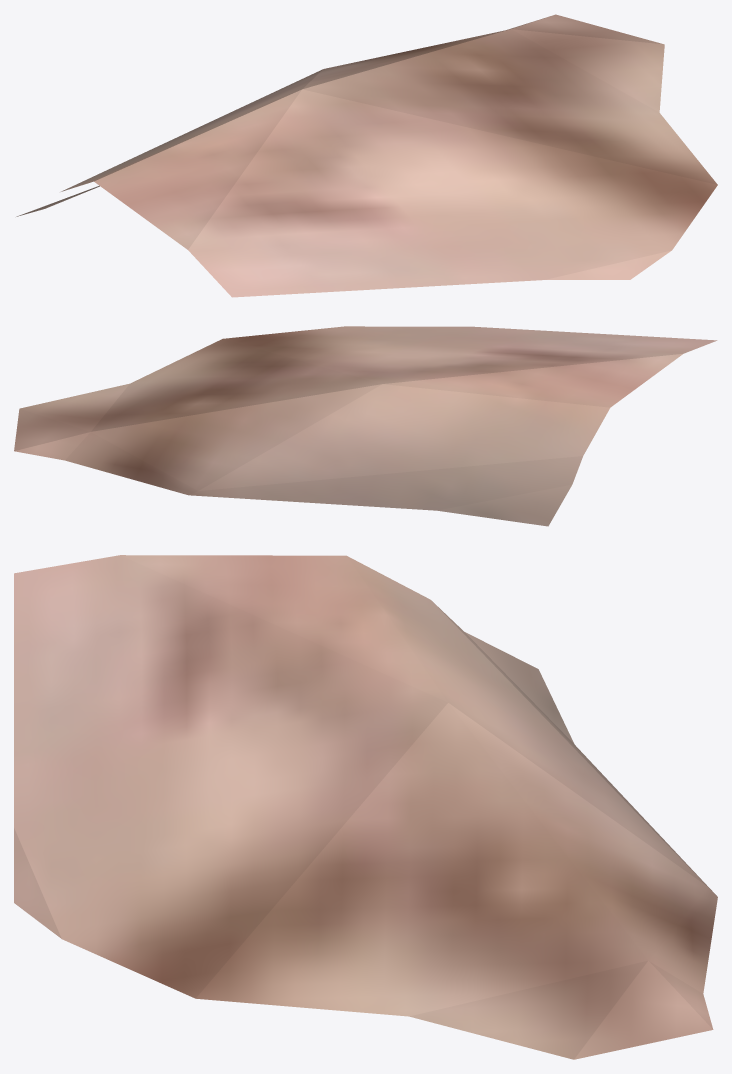
The picture shows the model from 3 angles, top to bottom: view 1: azimuth 30°, elevation 25°; view 2: azimuth 150°, elevation 25°; view 3: azimuth 270°, elevation 25°; orthographic projection. The views are drawn at different scales.
Size of the model in its own units: 0.2605 by 0.0355 by 0.1984.
Materials: 1 (1 with a texture image).
